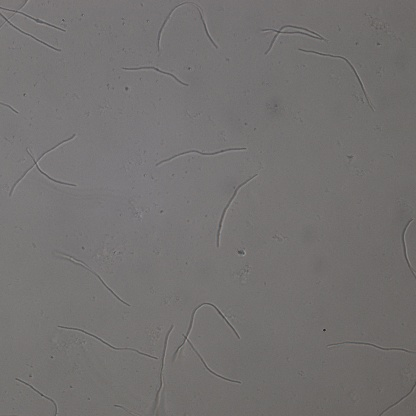Sensitive: (175, 301, 240, 385), (300, 48, 375, 108), (56, 250, 132, 304), (10, 134, 76, 196), (59, 326, 157, 359), (155, 2, 219, 51), (216, 174, 258, 247), (1, 5, 66, 50), (261, 20, 328, 56), (156, 144, 246, 166), (153, 327, 173, 412), (16, 378, 59, 416), (123, 65, 189, 87), (327, 339, 416, 353), (378, 384, 416, 415), (401, 218, 416, 279)
